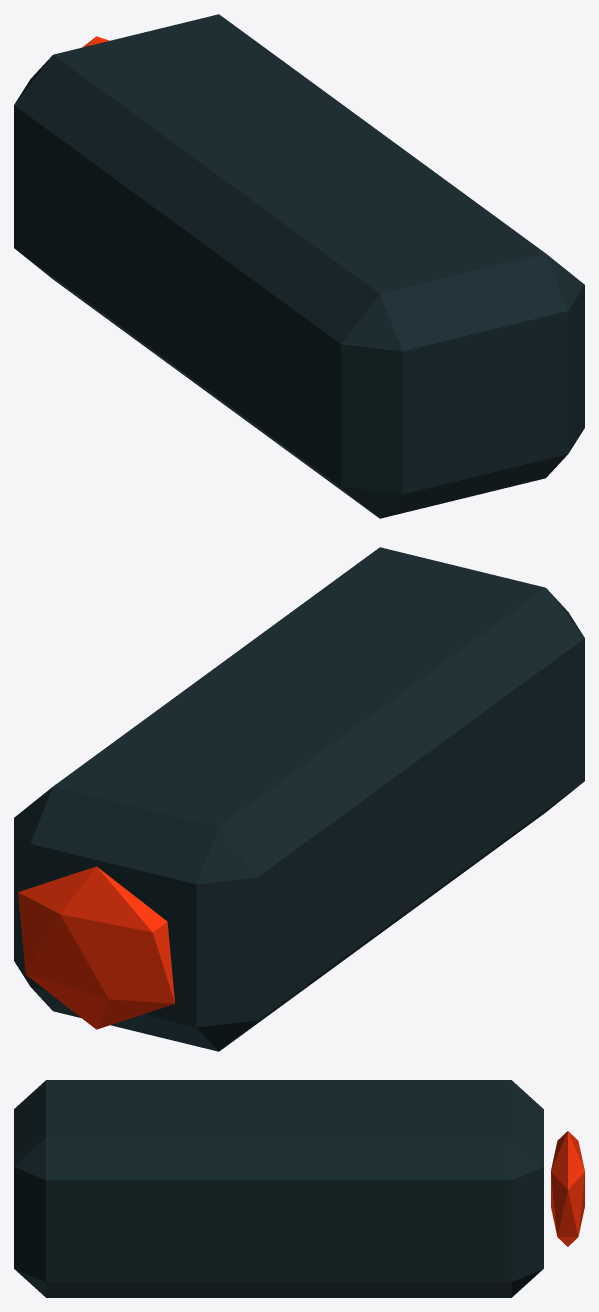
File: MoveEnemy_Cannon.obj
3 renders of one model, top to bottom at view 1: azimuth 30°, elevation 25°; view 2: azimuth 150°, elevation 25°; view 3: azimuth 270°, elevation 25°, orthographic. The views are drawn at different scales.
Visible parts, largest first — view 1: MoveEnemy_Cannon; view 2: MoveEnemy_Cannon; view 3: MoveEnemy_Cannon.
Boxes of the visible parts, box(x1,y1,x2,y2) form: MoveEnemy_Cannon: box(14, 14, 584, 518); MoveEnemy_Cannon: box(14, 547, 584, 1051); MoveEnemy_Cannon: box(14, 1080, 584, 1297).
Size of the model in its own units: 0.1905 by 0.1676 by 0.542.
Materials: 2 (2 with a texture image).
